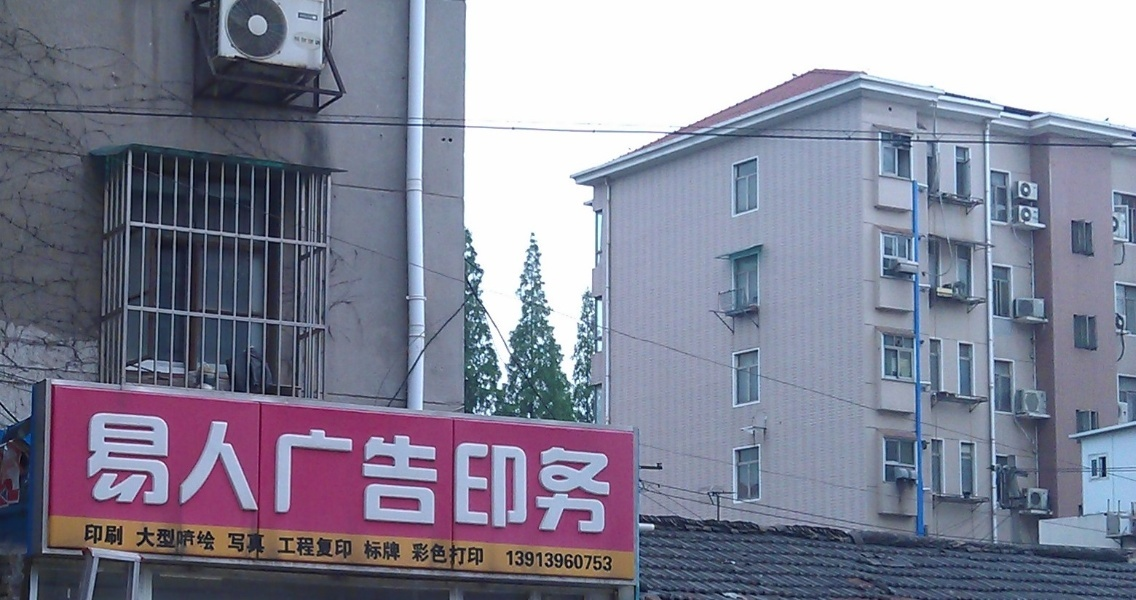text: (97, 410, 112, 543), (113, 410, 128, 543), (129, 410, 144, 543), (145, 410, 160, 543), (161, 410, 176, 543), (177, 410, 192, 543), (193, 410, 208, 543), (209, 410, 224, 543), (225, 410, 240, 543), (241, 410, 256, 543), (257, 410, 272, 543), (273, 410, 288, 543), (289, 410, 304, 543), (305, 410, 320, 543), (321, 410, 336, 543), (337, 410, 352, 543), (353, 410, 368, 543), (369, 410, 384, 543), (385, 410, 400, 543), (401, 410, 416, 543), (417, 410, 432, 543), (433, 410, 448, 543), (449, 410, 464, 543), (465, 410, 480, 543), (481, 410, 496, 543), (497, 410, 512, 543), (513, 410, 528, 543), (529, 410, 544, 543), (545, 410, 560, 543), (561, 410, 576, 543), (577, 410, 592, 543), (593, 410, 608, 543), (86, 410, 96, 543), (609, 410, 617, 543), (145, 526, 160, 554), (161, 526, 176, 554), (177, 526, 192, 554), (193, 526, 208, 554), (417, 542, 432, 567), (433, 542, 448, 567), (449, 542, 464, 567), (465, 542, 480, 567), (289, 536, 304, 560), (305, 536, 320, 560), (321, 536, 336, 560), (337, 536, 352, 560), (97, 523, 112, 546), (369, 539, 384, 562), (385, 539, 400, 562), (513, 550, 528, 573), (529, 550, 544, 573), (545, 550, 560, 573), (561, 550, 576, 573), (577, 550, 592, 573), (593, 550, 608, 573), (241, 533, 256, 554), (226, 533, 240, 554), (276, 536, 288, 560), (113, 523, 125, 546), (86, 523, 96, 546), (502, 550, 512, 573), (209, 526, 217, 554), (137, 526, 144, 554), (257, 533, 266, 554), (305, 35, 321, 46), (412, 542, 416, 567), (481, 542, 485, 567), (295, 35, 304, 46), (364, 539, 368, 562), (401, 539, 403, 562), (609, 550, 611, 573)
